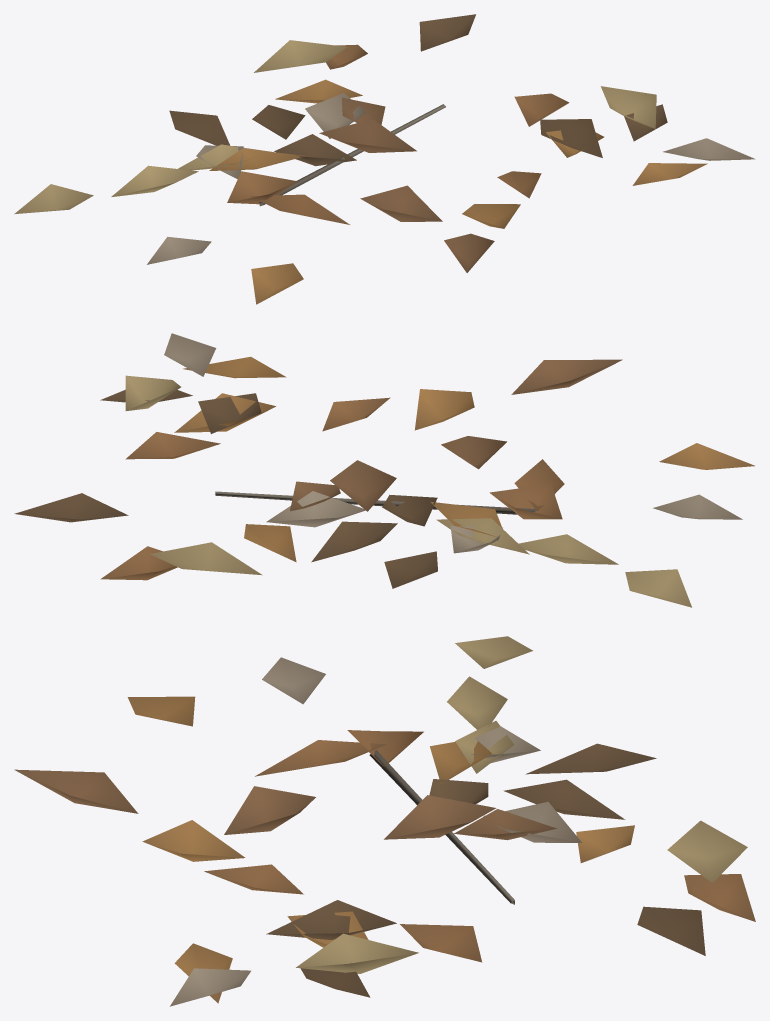
The model's file is gc_leaf_litter.glb.
The picture shows the model from 3 angles, top to bottom: view 1: azimuth 30°, elevation 25°; view 2: azimuth 150°, elevation 25°; view 3: azimuth 270°, elevation 25°; orthographic projection. The views are drawn at different scales.
Visible parts, largest first — view 1: gc_leaf_litter; view 2: gc_leaf_litter; view 3: gc_leaf_litter.
Part boxes in pixels (<box>): gc_leaf_litter: <box>14,14,755,304</box>; gc_leaf_litter: <box>14,333,754,607</box>; gc_leaf_litter: <box>14,636,755,1006</box>.
Size of the model in its own units: 1.4 by 0.086 by 1.17.
